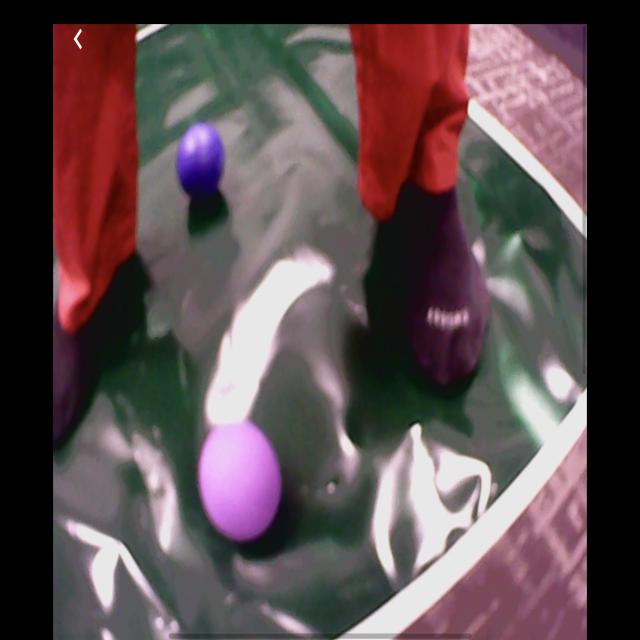ball: (198, 419, 285, 544), (176, 124, 226, 201)
